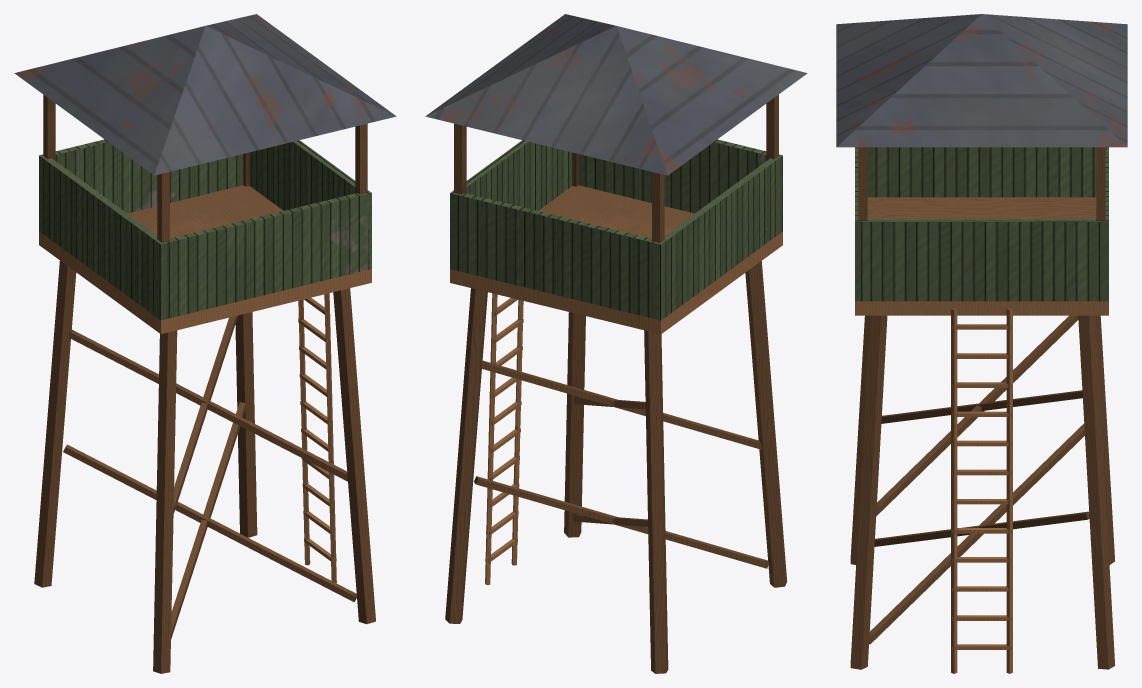
Rendered from vakttorn_tex.glb.
The picture shows the model from 3 angles, left to right: view 1: azimuth 30°, elevation 25°; view 2: azimuth 150°, elevation 25°; view 3: azimuth 270°, elevation 25°; orthographic projection. The views are drawn at different scales.
Parts seen in each view (by area): view 1: vakttorn; view 2: vakttorn; view 3: vakttorn.
Part boxes in pixels (x1,y1,x2,y2): vakttorn: [14, 14, 396, 673]; vakttorn: [425, 14, 807, 673]; vakttorn: [836, 14, 1127, 673].
Size of the model in its own units: 3.68 by 8.36 by 3.68.
4 materials, 4 textured.
